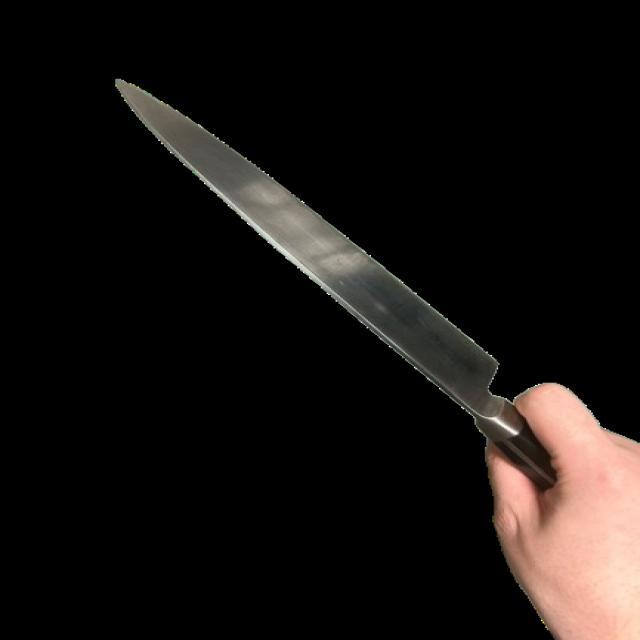knife: (110, 76, 639, 639)
